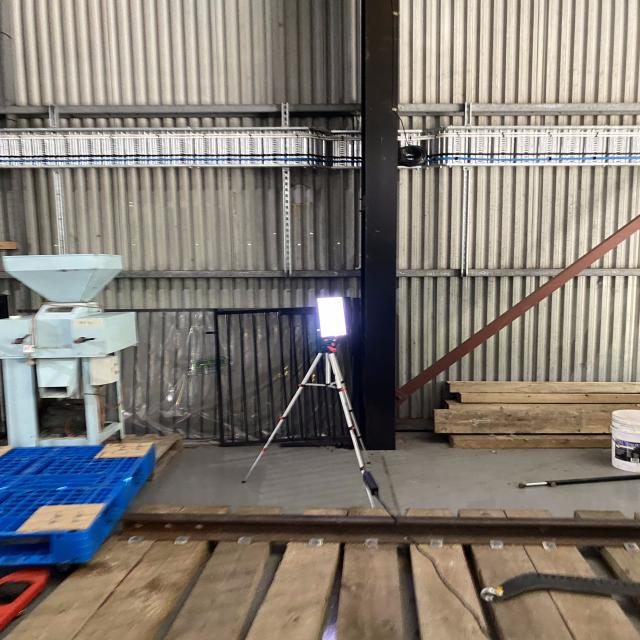matrix: (306, 290, 355, 348)
